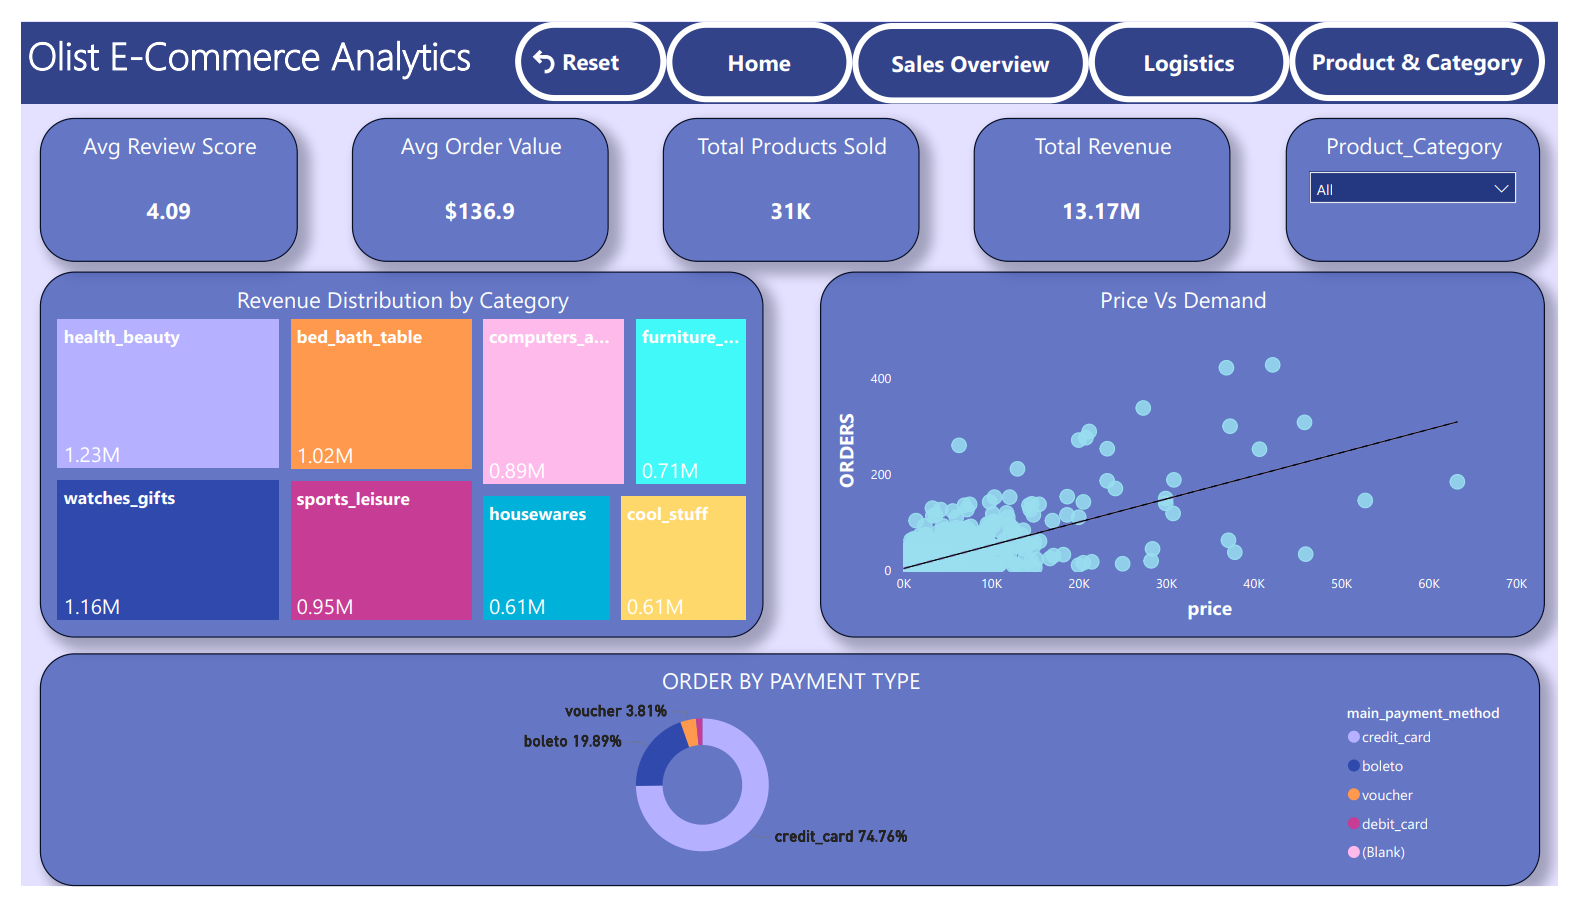

The dashboard page shown, as its layout file describes it:
{"tool":"powerbi","page":{"name":"Product&Category","canvas":[1280,720],"ordinal":3},"visuals":[{"type":"textbox","box":[0,0,1280,67.5],"z":0},{"type":"actionButton","box":[536.9,0,154.8,66.7],"z":1000},{"type":"actionButton","box":[691.7,1.2,197.6,66.7],"z":2000},{"type":"actionButton","box":[889.3,0,166.7,66.7],"z":3000},{"type":"actionButton","box":[1056.2,0,212.5,66.2],"z":4000},{"type":"cardVisual","title":"Avg Review Score","fields":{"Data":["olist_final_table.Avg Review Score"]},"box":[15,80,215,120],"z":5000},{"type":"cardVisual","title":"Avg Order Value","fields":{"Data":["olist_final_table.Averageordervalue_Aov"]},"box":[275.3,80,213.8,120],"z":6000},{"type":"cardVisual","title":"Total Products Sold","fields":{"Data":["olist_final_table.Total products sold"]},"box":[534.4,80,213.8,120],"z":7000},{"type":"cardVisual","title":"Total Revenue","fields":{"Data":["olist_final_table.Total Revenue"]},"box":[793.4,80,213.8,120],"z":8000},{"type":"slicer","title":"Product_Category","fields":{"Values":["olist_final_table.category_name_en"]},"box":[1052.5,80,212.5,120],"z":9000},{"type":"treemap","title":"Revenue Distribution by Category","fields":{"Group":["olist_final_table.category_name_en"],"Values":["olist_final_table.Total Revenue"]},"box":[15,207.5,602.5,305],"z":10000},{"type":"scatterChart","title":"Price Vs Demand","fields":{"X":["Sum(olist_final_table.price)"],"Y":["olist_final_table.TotalOrders"],"Category":["olist_final_table.product_id"]},"box":[665,207.5,603.8,305],"z":11000},{"type":"donutChart","title":"ORDER BY PAYMENT TYPE","fields":{"Category":["olist_final_table.main_payment_method"],"Y":["Count(olist_final_table.order_id)"]},"box":[15,526.2,1250,193.8],"z":12000},{"type":"actionButton","box":[411.2,0,125.5,66.4],"z":16000}]}

Visuals, with their boxes in screenshot pixels (x1, y1, x2, y2), scaled from the page's 1280x720 canvas onto the 1587x911 screenshot:
textbox: bbox=(0, 0, 1586, 85)
actionButton: bbox=(666, 0, 858, 84)
actionButton: bbox=(858, 2, 1103, 86)
actionButton: bbox=(1103, 0, 1309, 84)
actionButton: bbox=(1310, 0, 1573, 84)
"Avg Review Score" cardVisual: bbox=(19, 101, 285, 253)
"Avg Order Value" cardVisual: bbox=(341, 101, 606, 253)
"Total Products Sold" cardVisual: bbox=(663, 101, 928, 253)
"Total Revenue" cardVisual: bbox=(984, 101, 1249, 253)
"Product_Category" slicer: bbox=(1305, 101, 1568, 253)
"Revenue Distribution by Category" treemap: bbox=(19, 263, 766, 648)
"Price Vs Demand" scatterChart: bbox=(824, 263, 1573, 648)
"ORDER BY PAYMENT TYPE" donutChart: bbox=(19, 666, 1568, 910)
actionButton: bbox=(510, 0, 665, 84)
